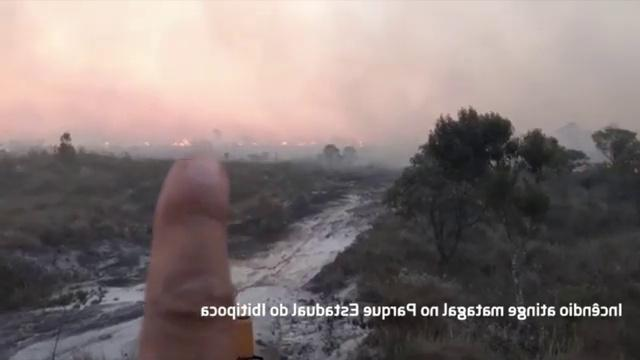fire: (172, 135, 191, 147)
smoke: (525, 18, 616, 107), (373, 124, 422, 162)
